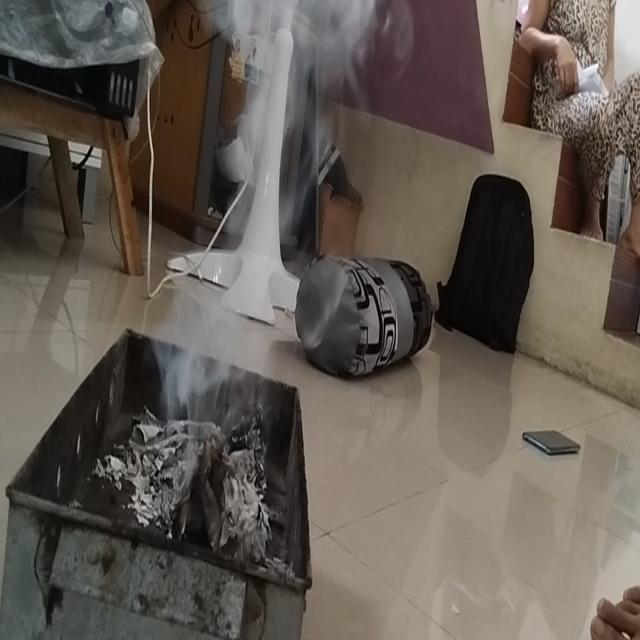smoke: (206, 0, 382, 260), (157, 271, 276, 410)
